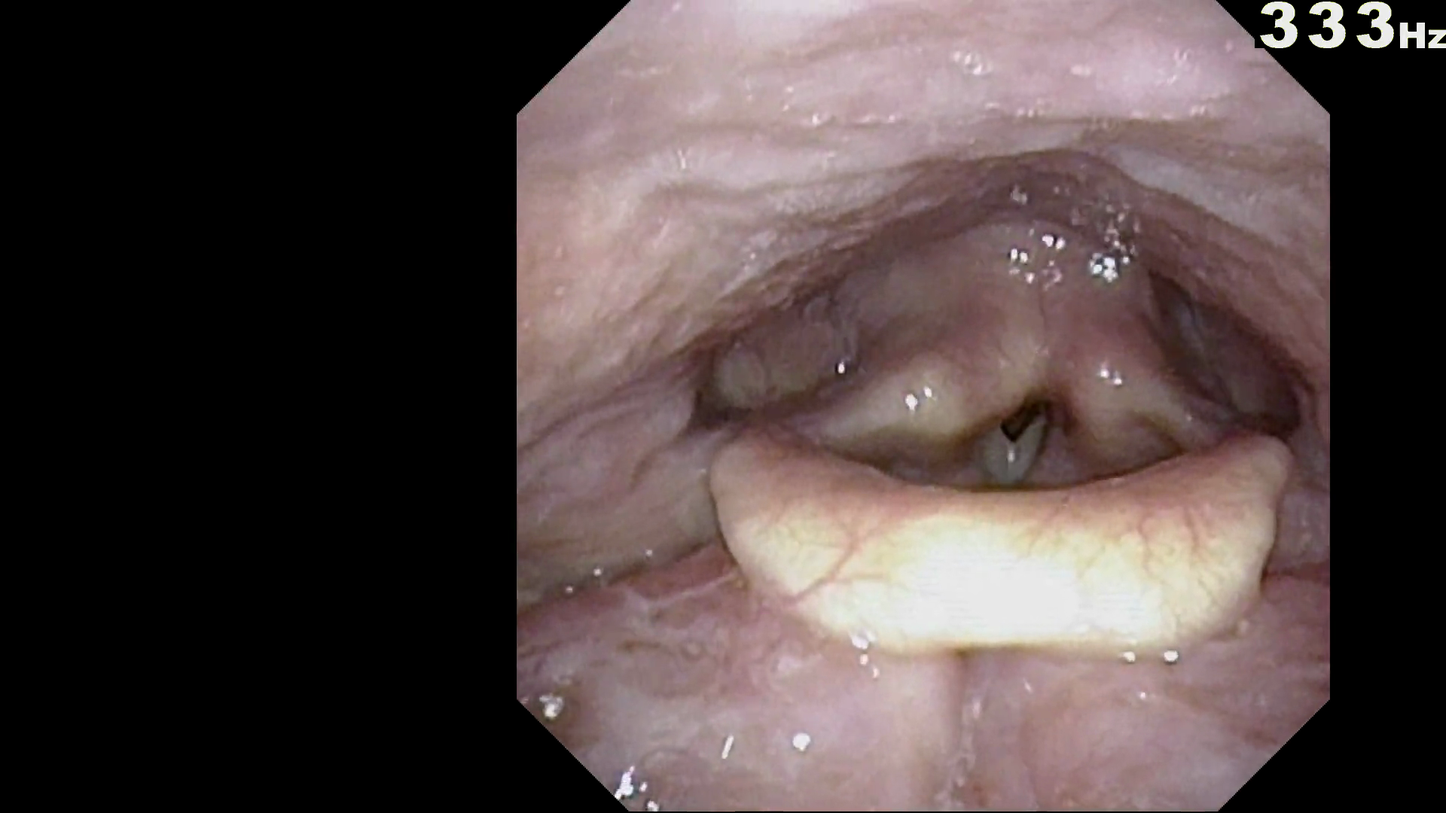epiglottis: (700, 404, 1306, 664)
trachea: (961, 382, 1074, 503)
